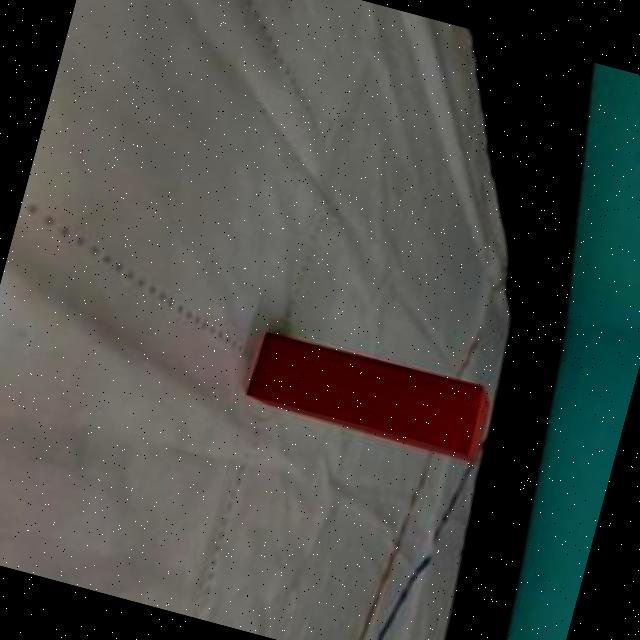redbox: (243, 326, 496, 462)
